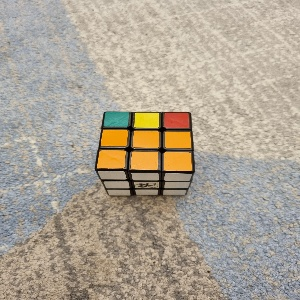cube: (94, 111, 196, 196)
